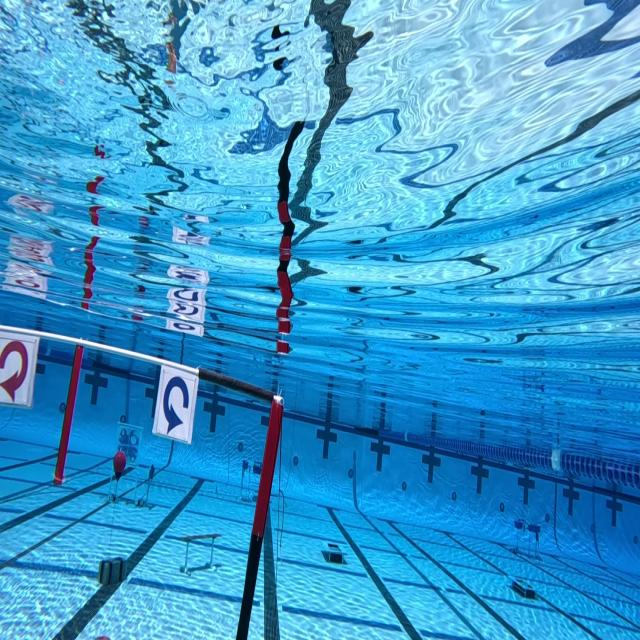blue_side: (152, 353, 200, 450)
